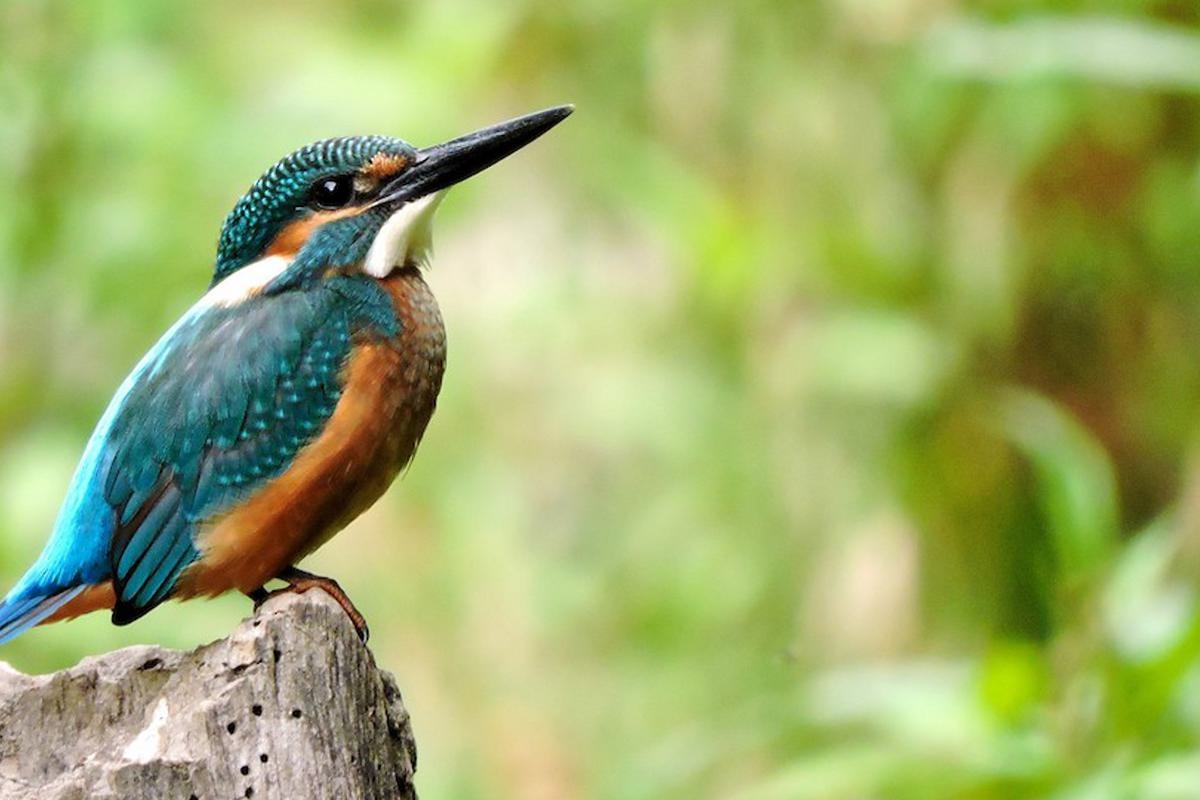kingfisher: (1, 98, 595, 666)
